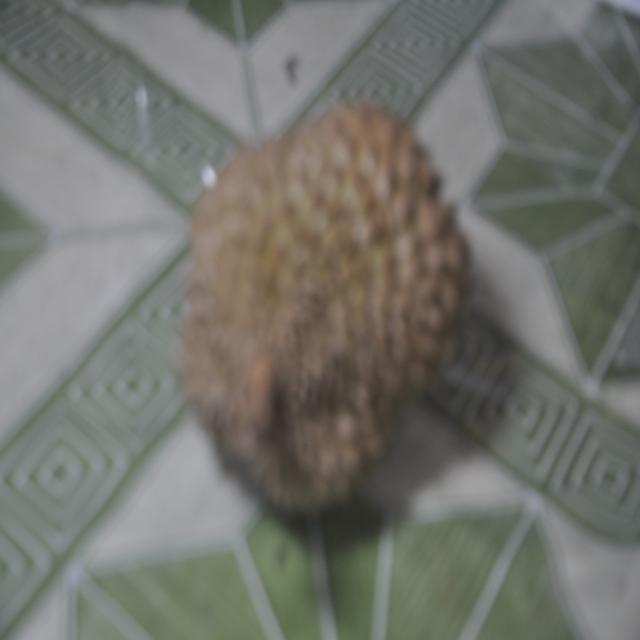mature: (181, 103, 469, 528)
